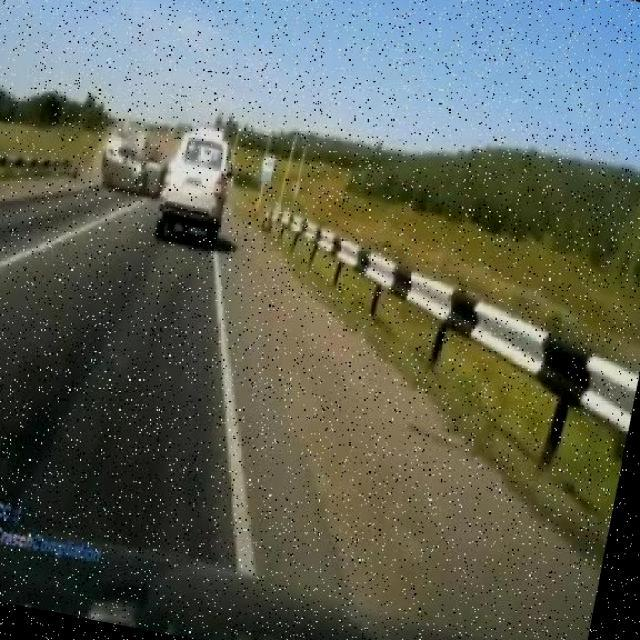accident: (101, 121, 170, 198)
